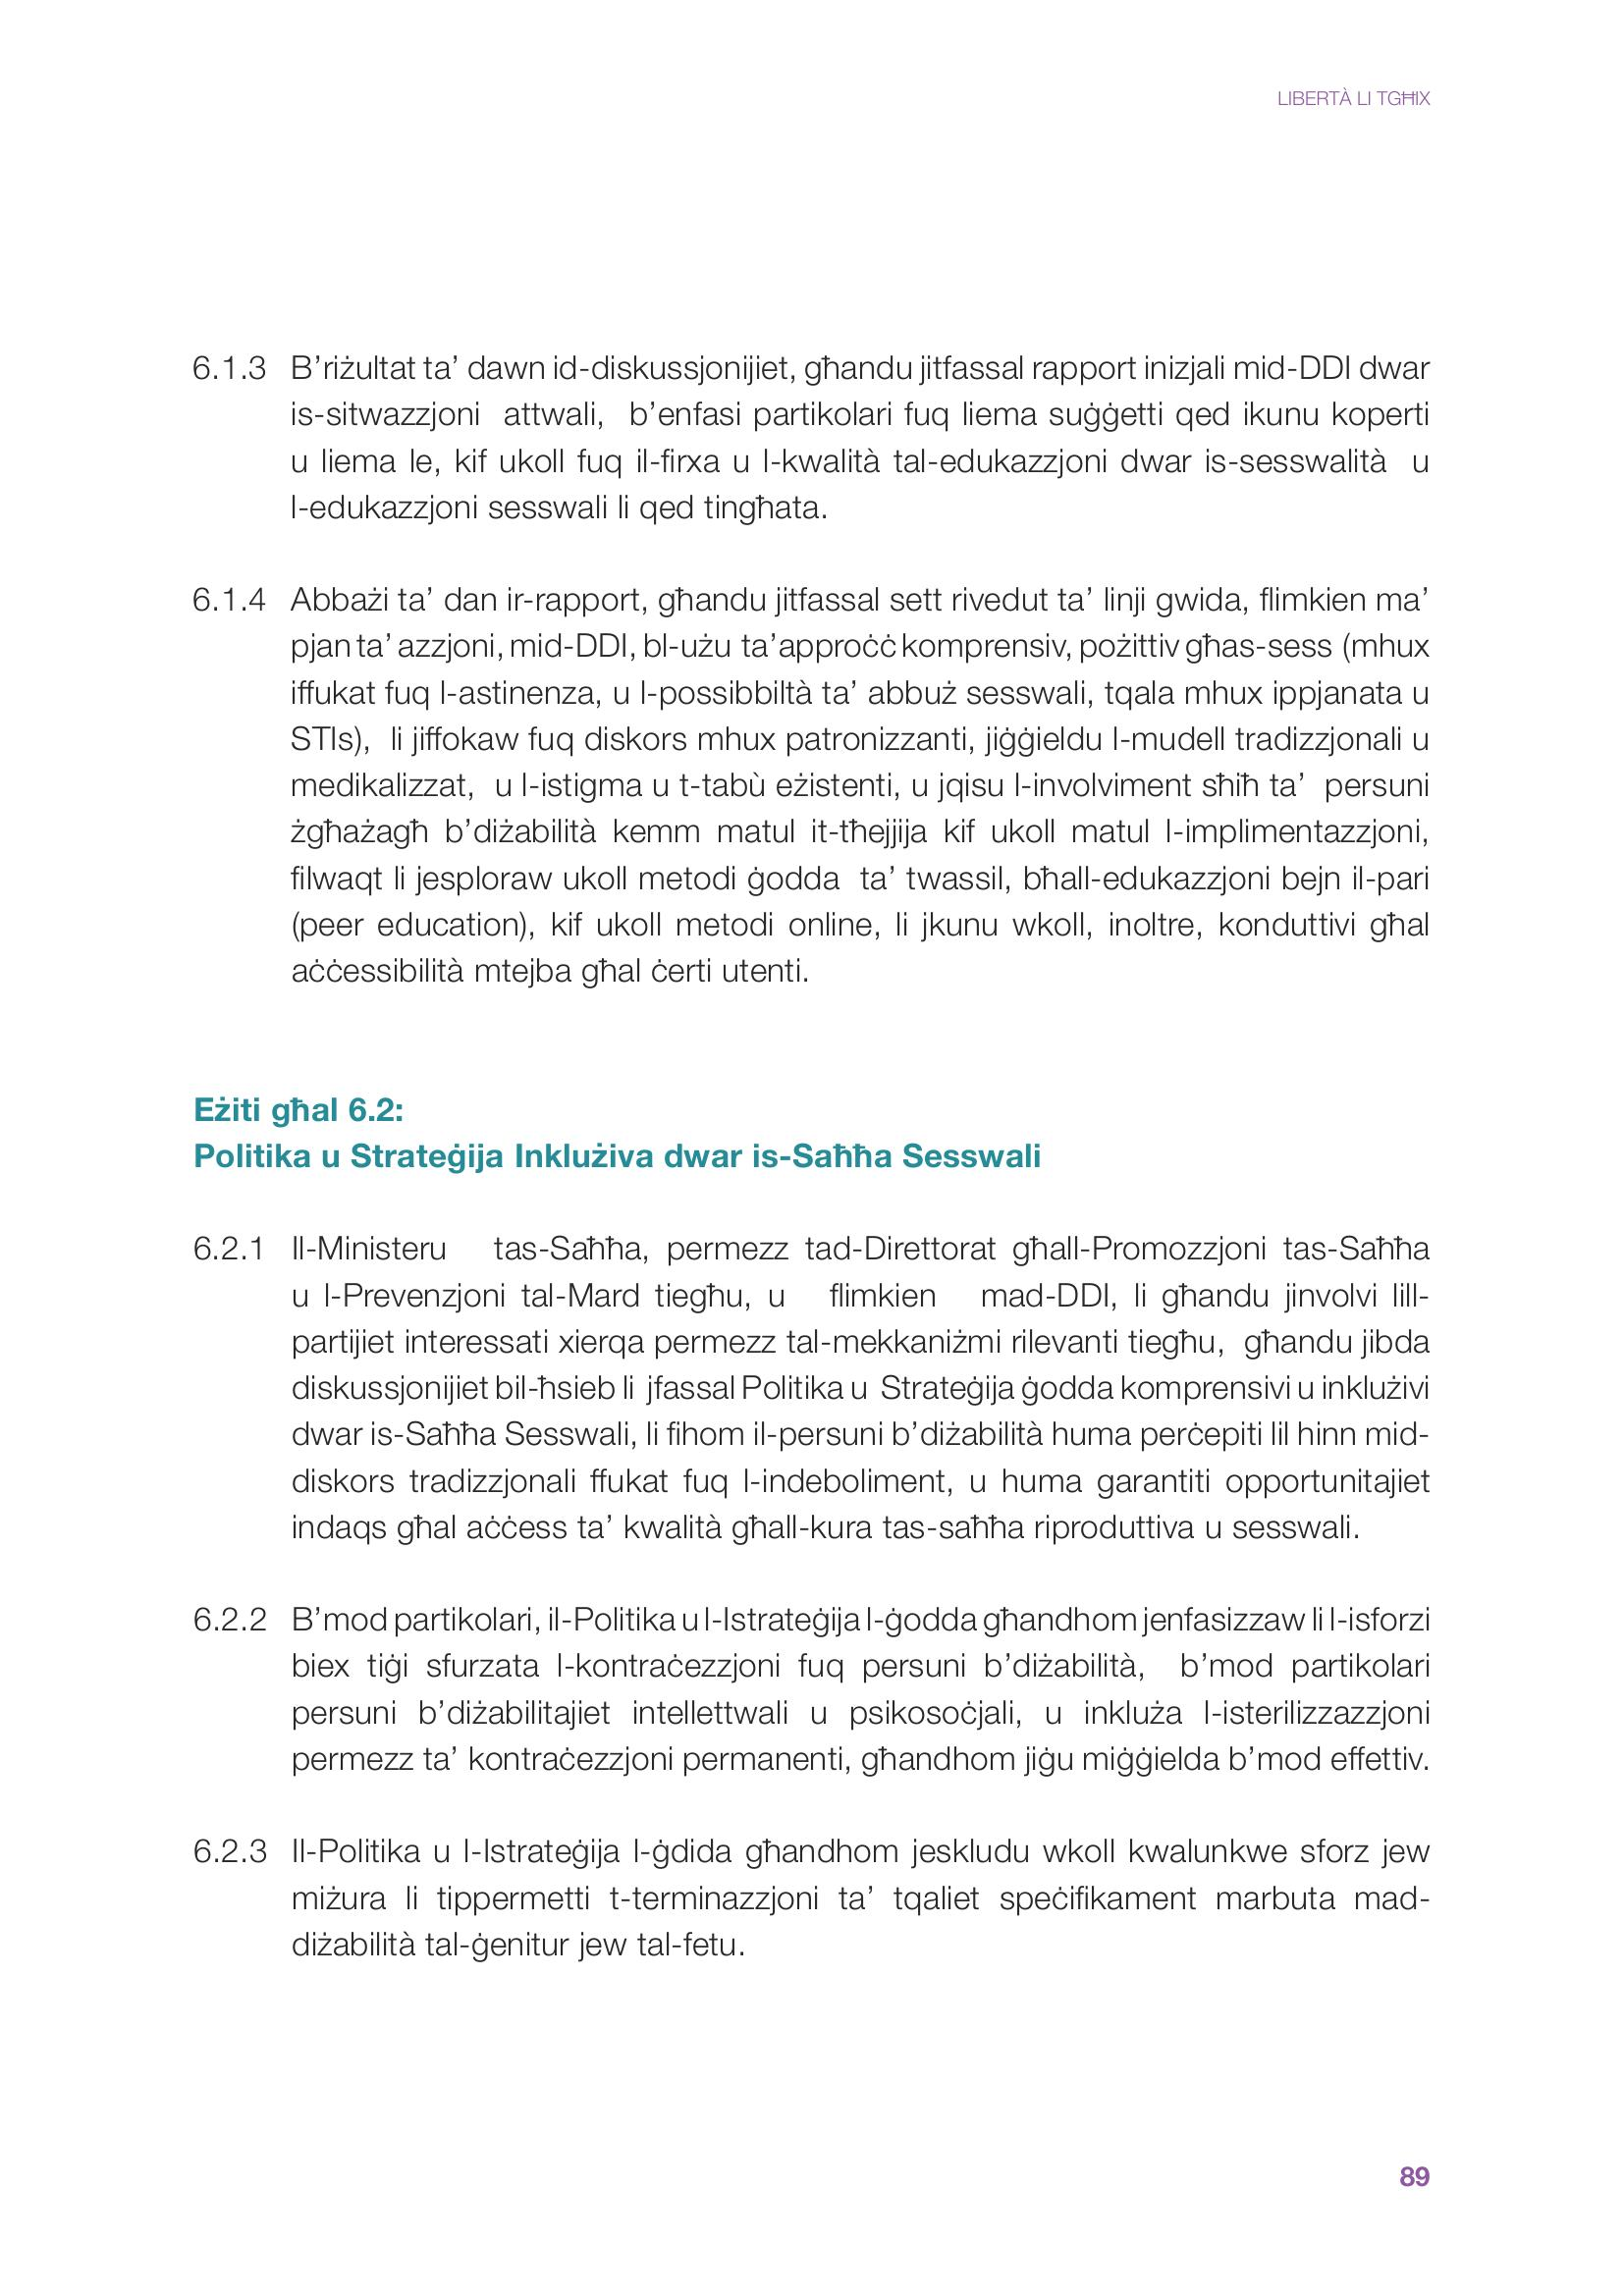text: (163, 321, 1483, 1989)
